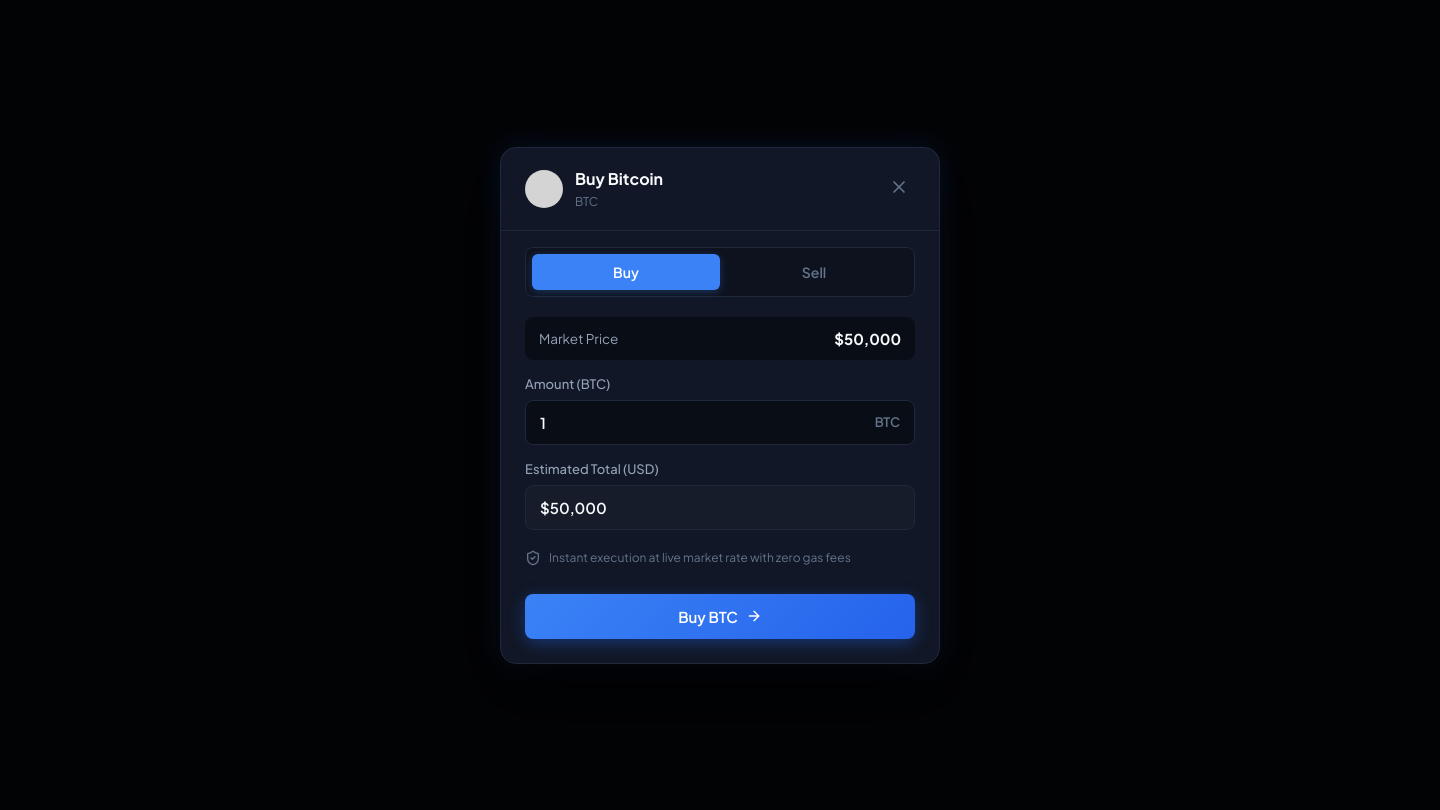
TradeModal Component › calculates estimated total based on amount
Replace the text in the number field with "2". click: (707,422)
box: [540, 400, 875, 444]
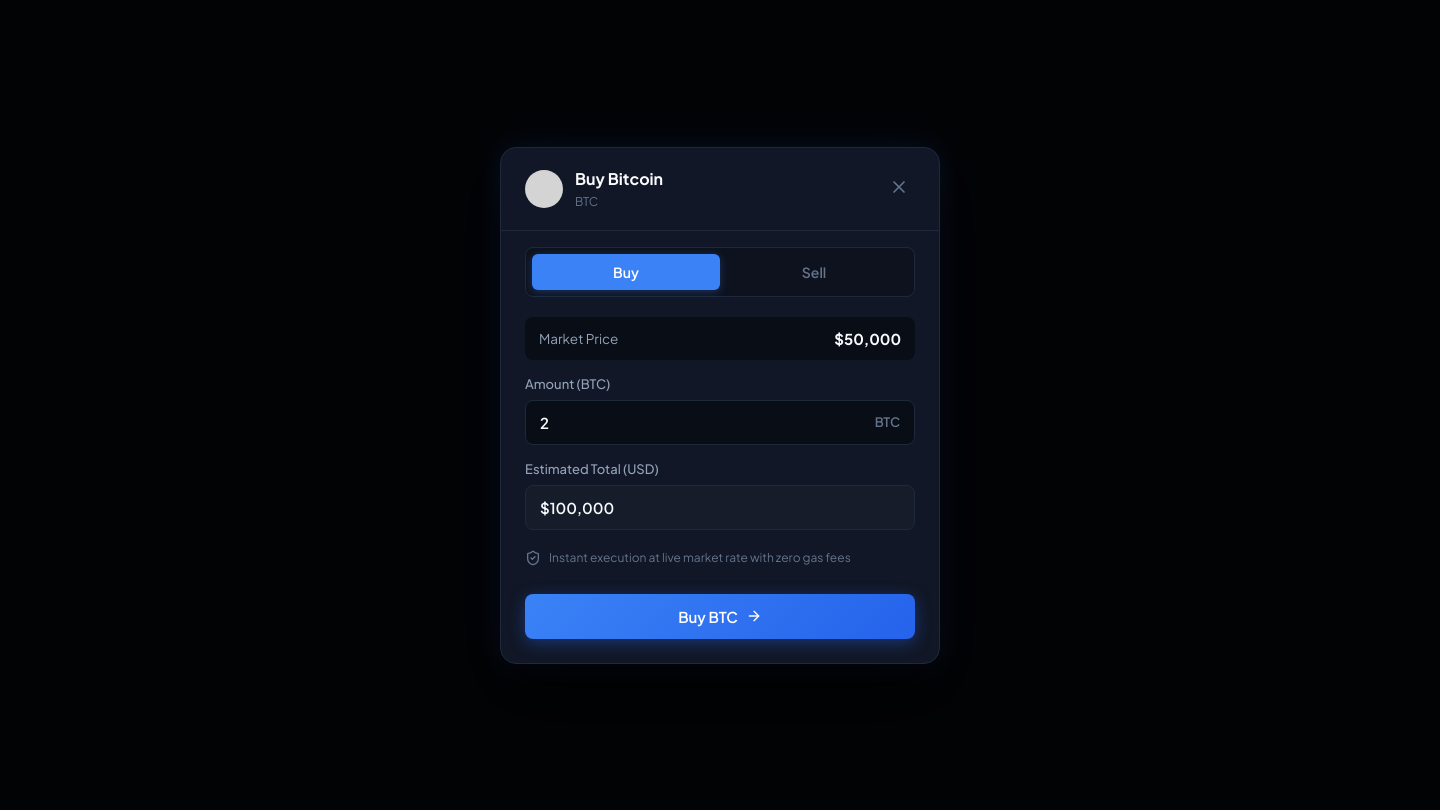
Result: the field showing "$100,000" is shown at [540, 486, 900, 528]
